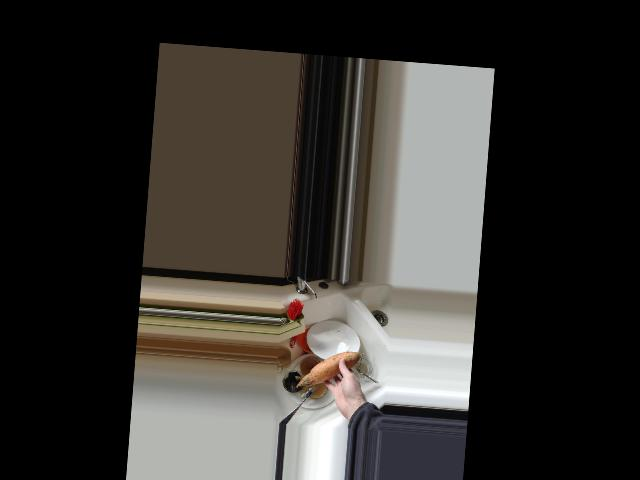sweet_potato: (297, 345, 361, 394)
